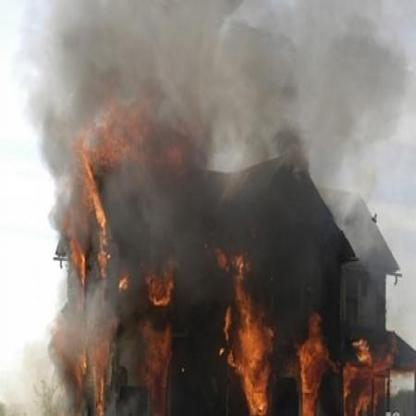fire: (49, 85, 389, 410)
